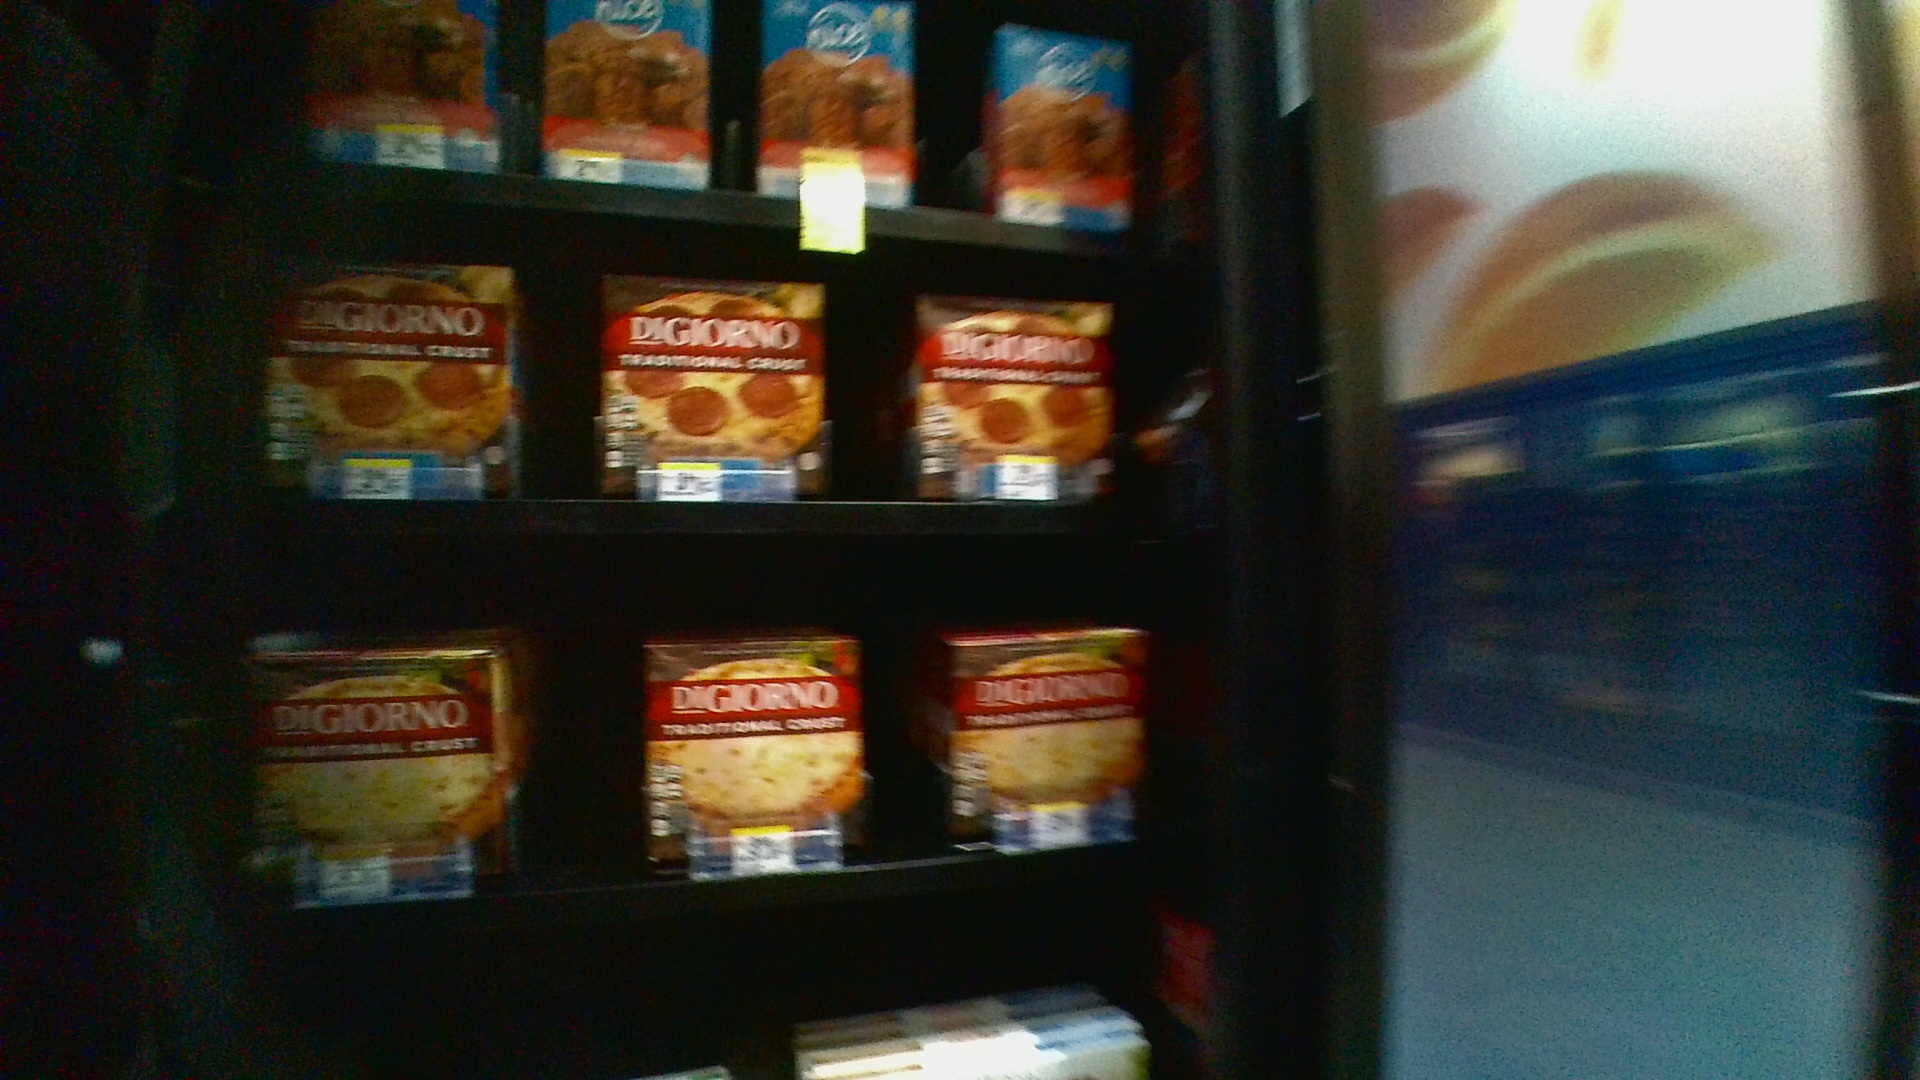shelf: (224, 553, 1185, 943), (210, 231, 1193, 543)
